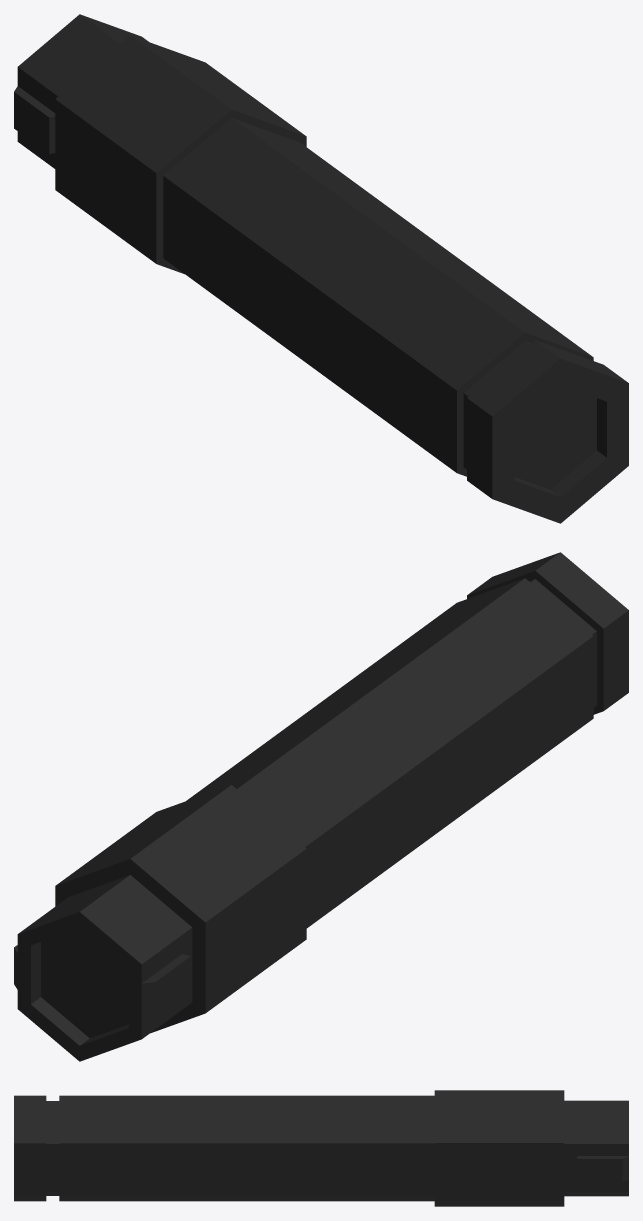
The model's file is Muzzle_Suppressor_A.fbx.
The picture shows the model from 3 angles, top to bottom: view 1: azimuth 30°, elevation 25°; view 2: azimuth 150°, elevation 25°; view 3: azimuth 270°, elevation 25°; orthographic projection. The views are drawn at different scales.
Visible parts, largest first — view 1: Muzzle_Suppressor_A; view 2: Muzzle_Suppressor_A; view 3: Muzzle_Suppressor_A.
Part boxes in pixels (<box>): Muzzle_Suppressor_A: <box>14,14,628,523</box>; Muzzle_Suppressor_A: <box>14,552,628,1061</box>; Muzzle_Suppressor_A: <box>14,1090,628,1206</box>.
Size of the model in its own units: 0.1715 by 0.198 by 0.95.
